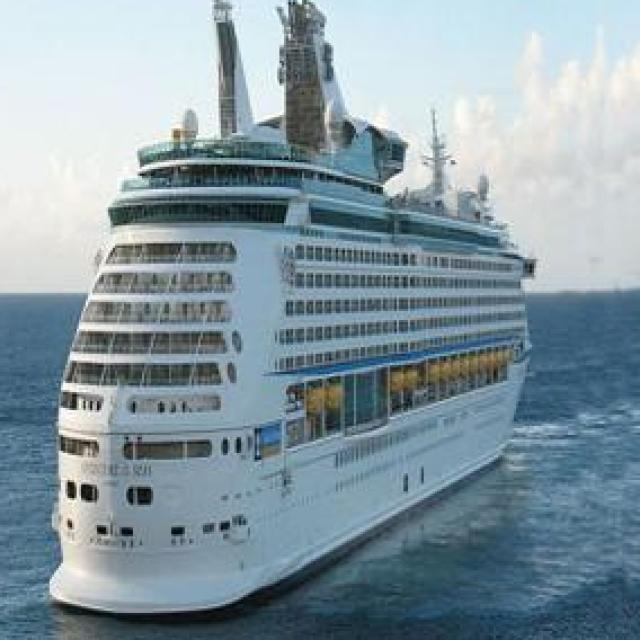passenger ship: (45, 0, 534, 613)
